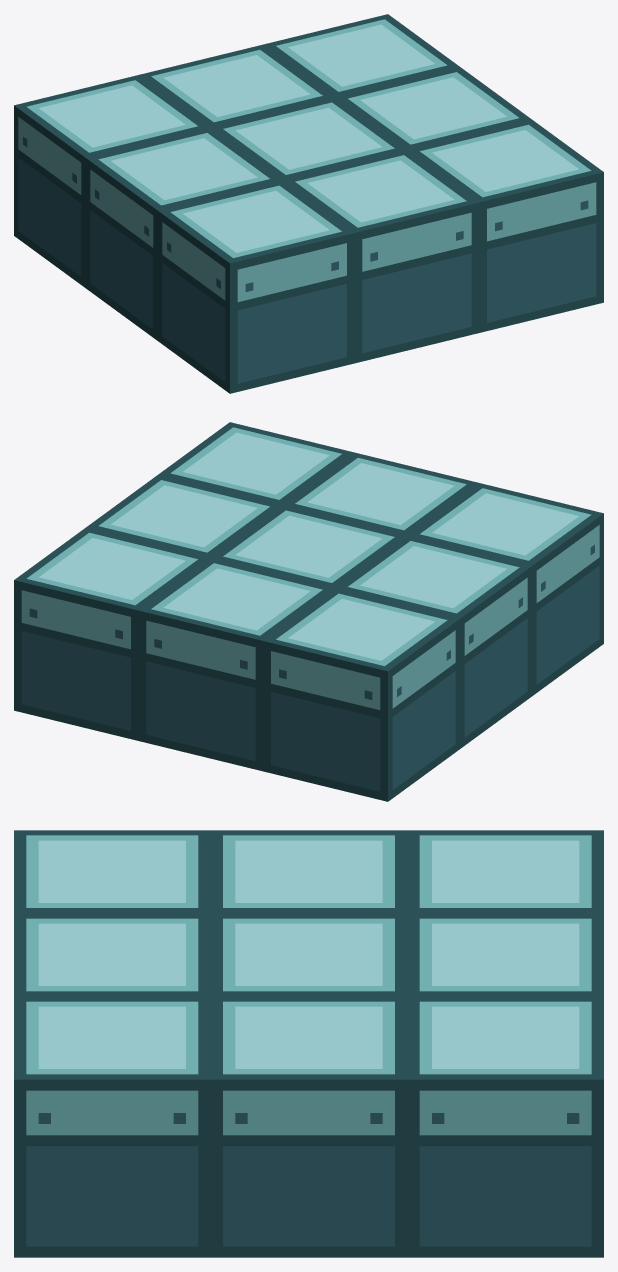
The model's file is normal_tiles3x3.fbx.
3 views of the same model, one above another, from view 1: azimuth 30°, elevation 25°; view 2: azimuth 150°, elevation 25°; view 3: azimuth 270°, elevation 25° (orthographic). The views are drawn at different scales.
Visible parts, largest first — view 1: normal_tiles3x3; view 2: normal_tiles3x3; view 3: normal_tiles3x3.
Part boxes in pixels (left/top/right/bottom): normal_tiles3x3: left=14, top=14, right=603, bottom=393; normal_tiles3x3: left=14, top=422, right=603, bottom=801; normal_tiles3x3: left=14, top=830, right=603, bottom=1257.
Size of the model in its own units: 4.8 by 1.6 by 4.8.
1 material, 1 textured.
